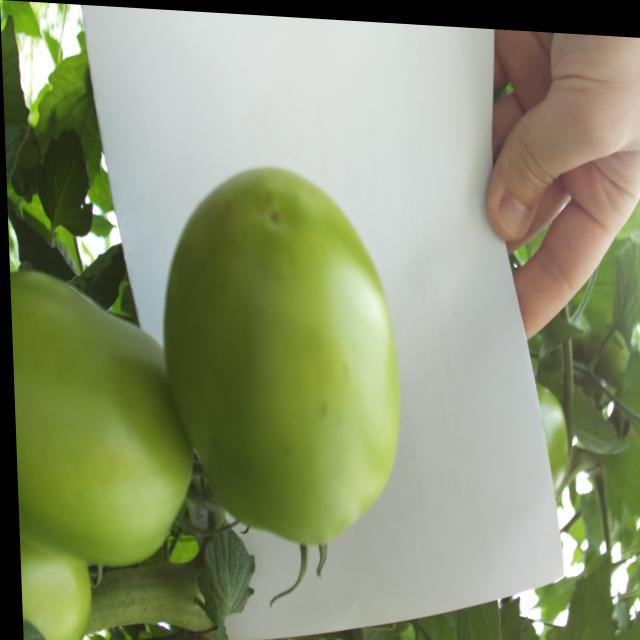yesil: (4, 139, 397, 640)
